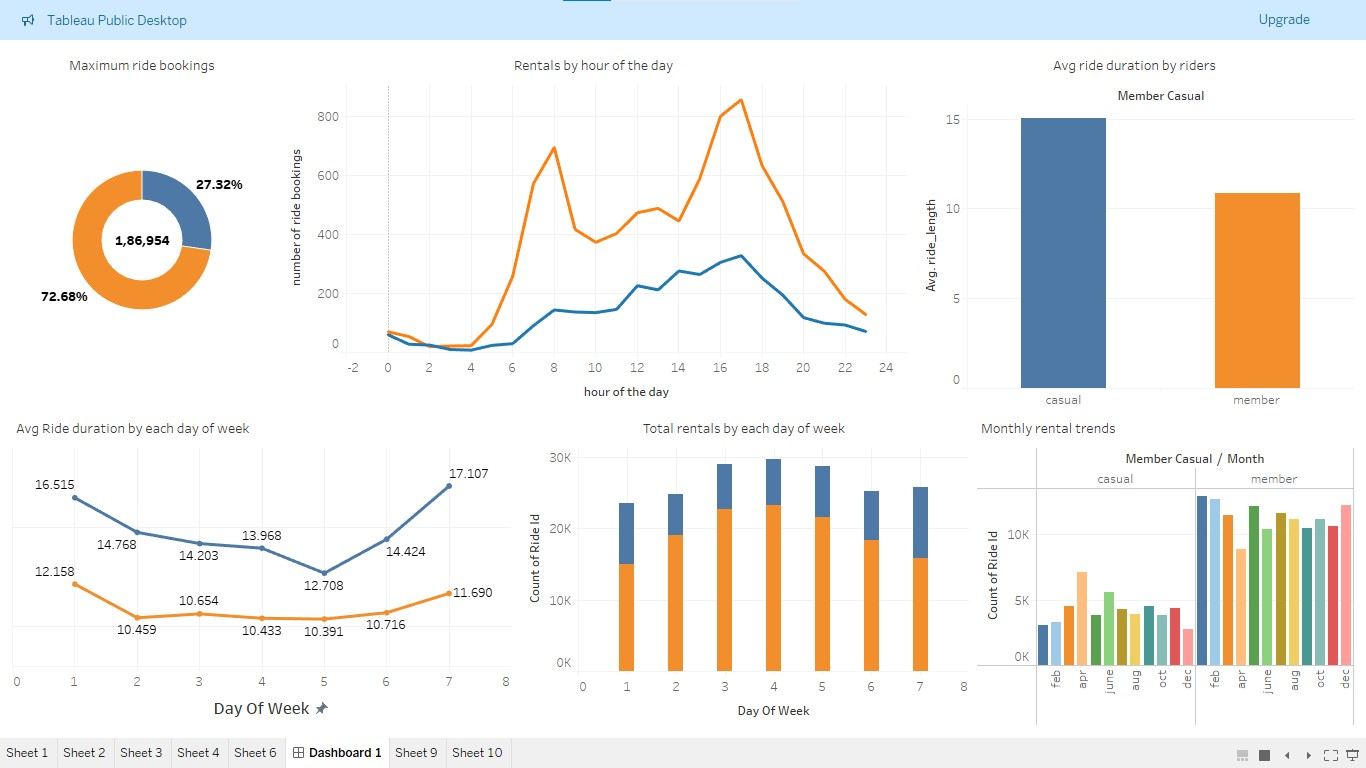

The page's visual inventory and layout, read from the dashboard file:
{"tool":"tableau","page":{"name":"Dashboard 1","canvas":[1000,1000],"units":"permille","ordinal":0},"visuals":[{"type":"worksheet","title":"Sheet 3","mark":"Pie","rows":["Calculation_536772834390007809","Calculation_536772834390028291"],"box":[9.8,18.9,194.5,511.6]},{"type":"worksheet","title":"Sheet 9","mark":"Automatic","rows":["ride_id (original_data.csv)"],"cols":["Calculation_1015561769425395714"],"box":[204.3,18.9,587.9,511.6]},{"type":"worksheet","title":"Sheet 4","mark":"Automatic","rows":["Calculation_1083115763568074754"],"cols":["member_casual"],"box":[792.2,18.9,197.9,511.6]},{"type":"worksheet","title":"Sheet 1","mark":"Automatic","rows":["Calculation_1083115763568074754"],"cols":["day_of_week"],"box":[9.8,530.5,368.3,450.6]},{"type":"worksheet","title":"Sheet 10","mark":"Bar","rows":["ride_id"],"cols":["day_of_week"],"box":[378.2,530.5,332.6,450.6]},{"type":"worksheet","title":"Sheet 2","mark":"Automatic","rows":["ride_id"],"cols":["member_casual","month"],"box":[710.8,530.5,279.4,450.6]}]}

Visuals, with their boxes on the dashboard's canvas, which has no fixed pixel size, in thousandths of its width and height (x1, y1, x2, y2). These are canvas units, not pixel positions in the 1366x768 screenshot, which may show the page scaled, cropped or inside an application window:
"Sheet 3" worksheet (Pie marks): [left=10, top=19, right=204, bottom=530]
"Sheet 9" worksheet: [left=204, top=19, right=792, bottom=530]
"Sheet 4" worksheet: [left=792, top=19, right=990, bottom=530]
"Sheet 1" worksheet: [left=10, top=530, right=378, bottom=981]
"Sheet 10" worksheet (Bar marks): [left=378, top=530, right=711, bottom=981]
"Sheet 2" worksheet: [left=711, top=530, right=990, bottom=981]
